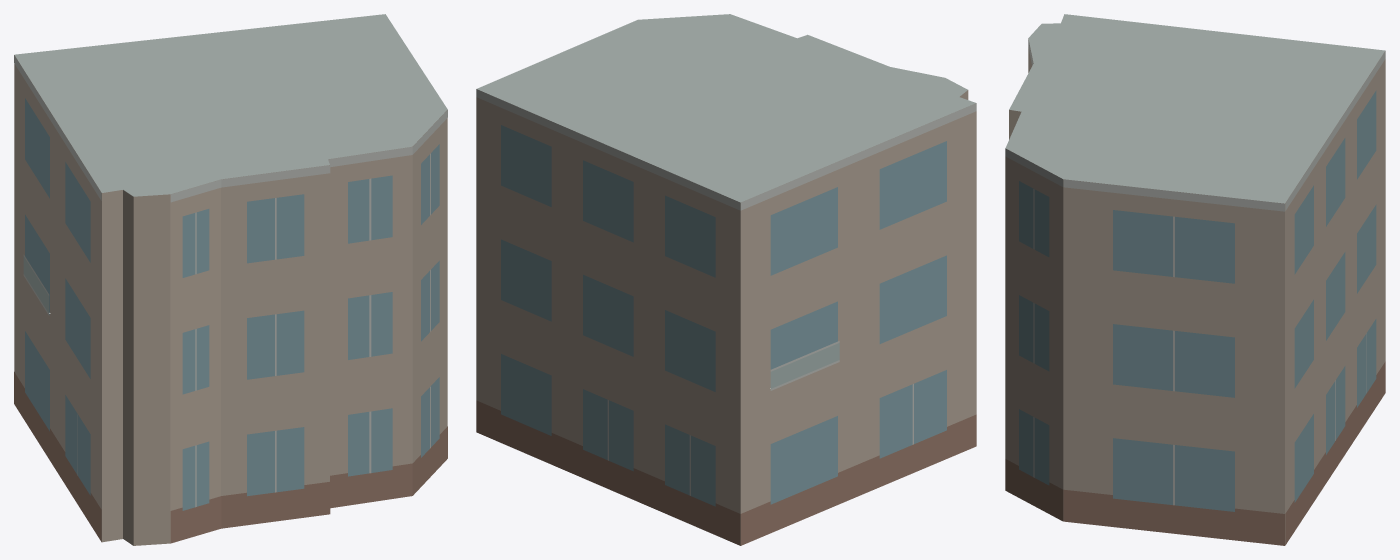
The model's file is survey-upis-32830279.glb.
3 views of the same model, side by side, from view 1: azimuth 30°, elevation 25°; view 2: azimuth 150°, elevation 25°; view 3: azimuth 270°, elevation 25° (orthographic). The views are drawn at different scales.
Parts seen in each view (by area): view 1: survey-upis-32830279.tmp; view 2: survey-upis-32830279.tmp; view 3: survey-upis-32830279.tmp.
Boxes of the visible parts, left/top/right/bottom form: survey-upis-32830279.tmp: left=14, top=14, right=447, bottom=545; survey-upis-32830279.tmp: left=476, top=14, right=976, bottom=545; survey-upis-32830279.tmp: left=1005, top=14, right=1385, bottom=545.
Bounding box in the file's own units: 12.24 × 10.3 × 10.38.
